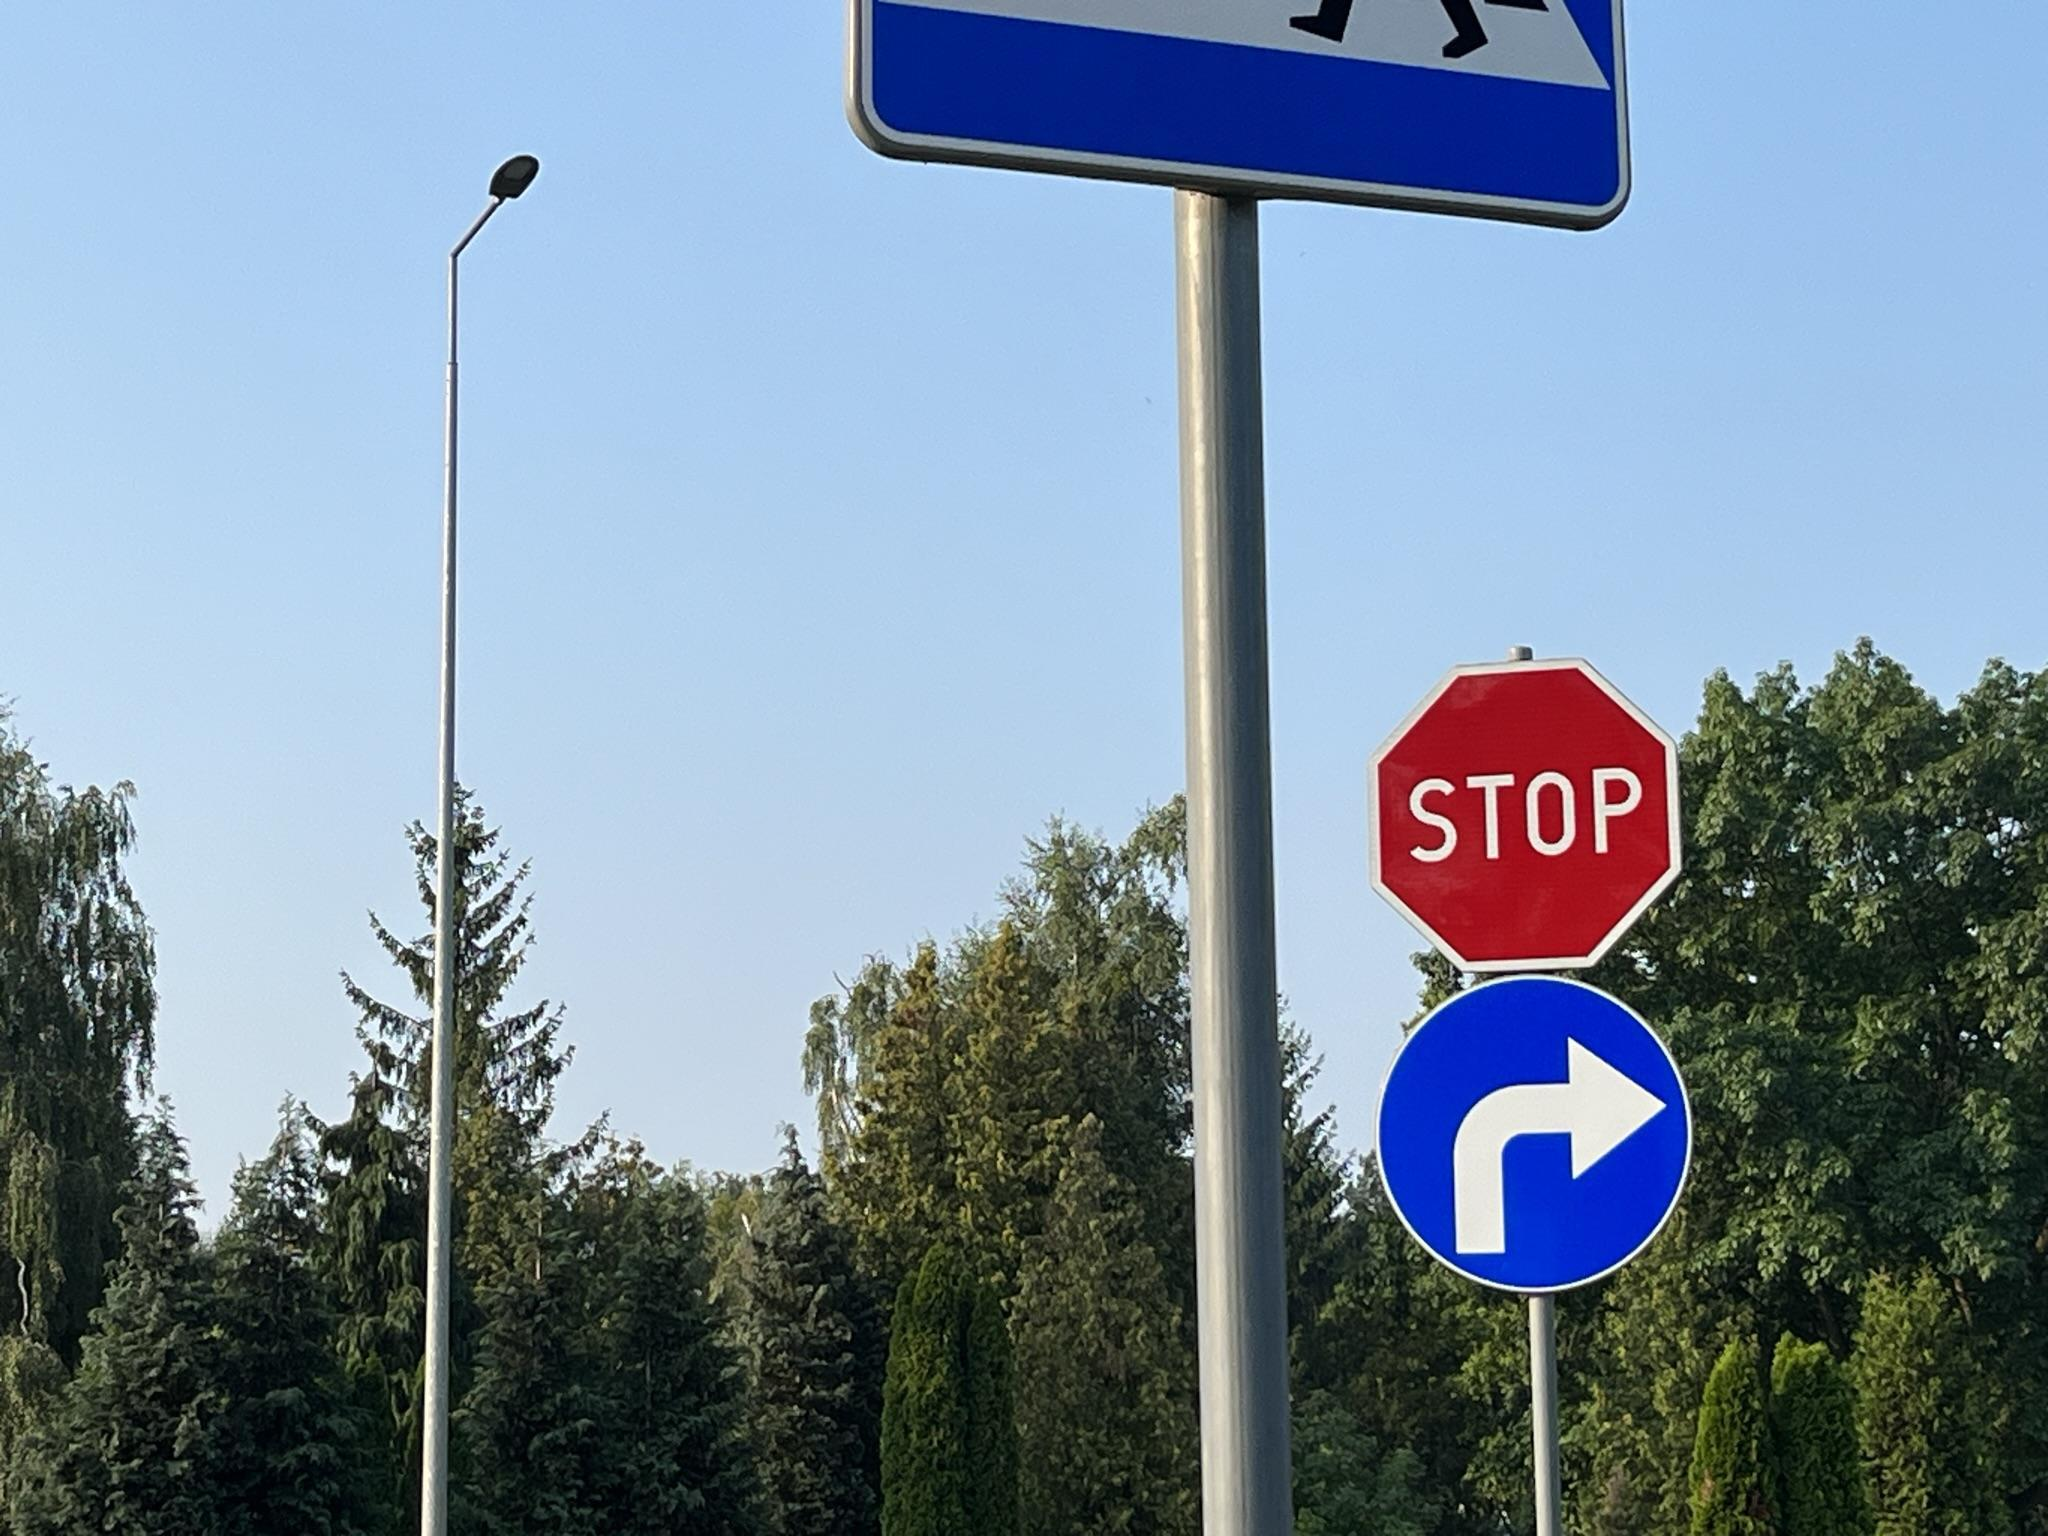information: (847, 0, 1625, 234)
mandatory: (1376, 976, 1692, 1296)
prohibitory: (1372, 660, 1687, 970)
